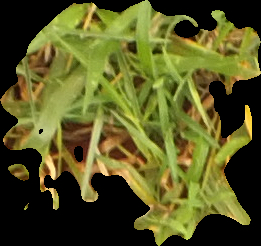grass: (1, 1, 260, 245)
